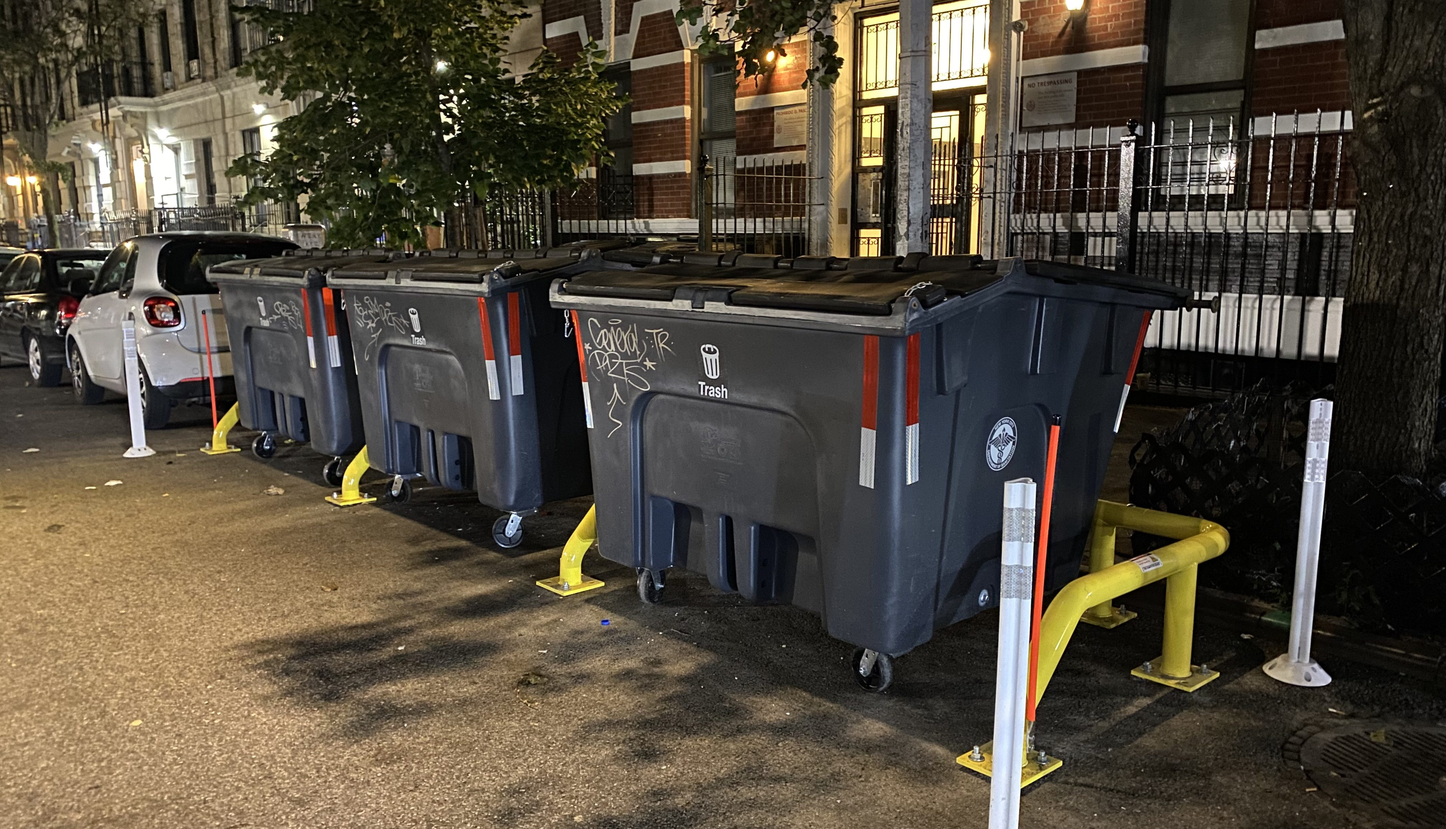Car: (41, 203, 239, 424)
TrashBin: (524, 223, 1199, 723), (315, 243, 551, 549)
